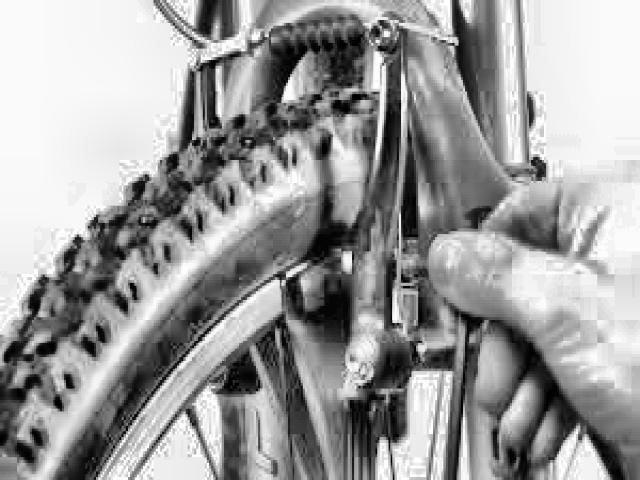rim_brake: (187, 7, 406, 443)
